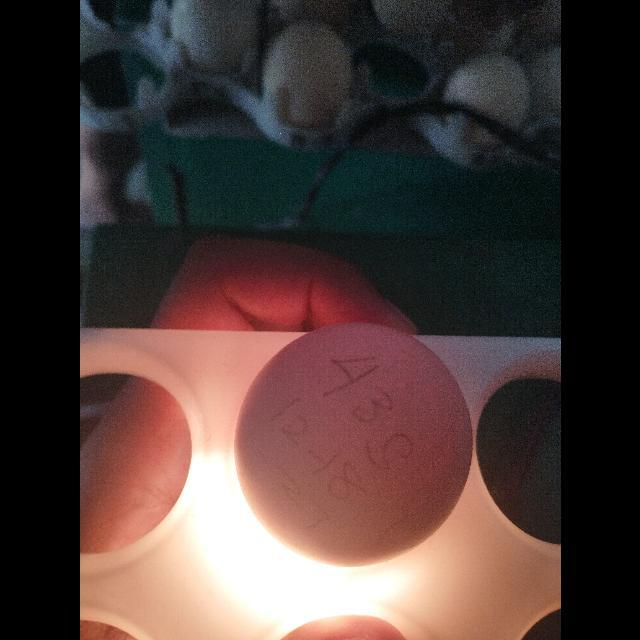Fertile: (232, 318, 476, 572)
